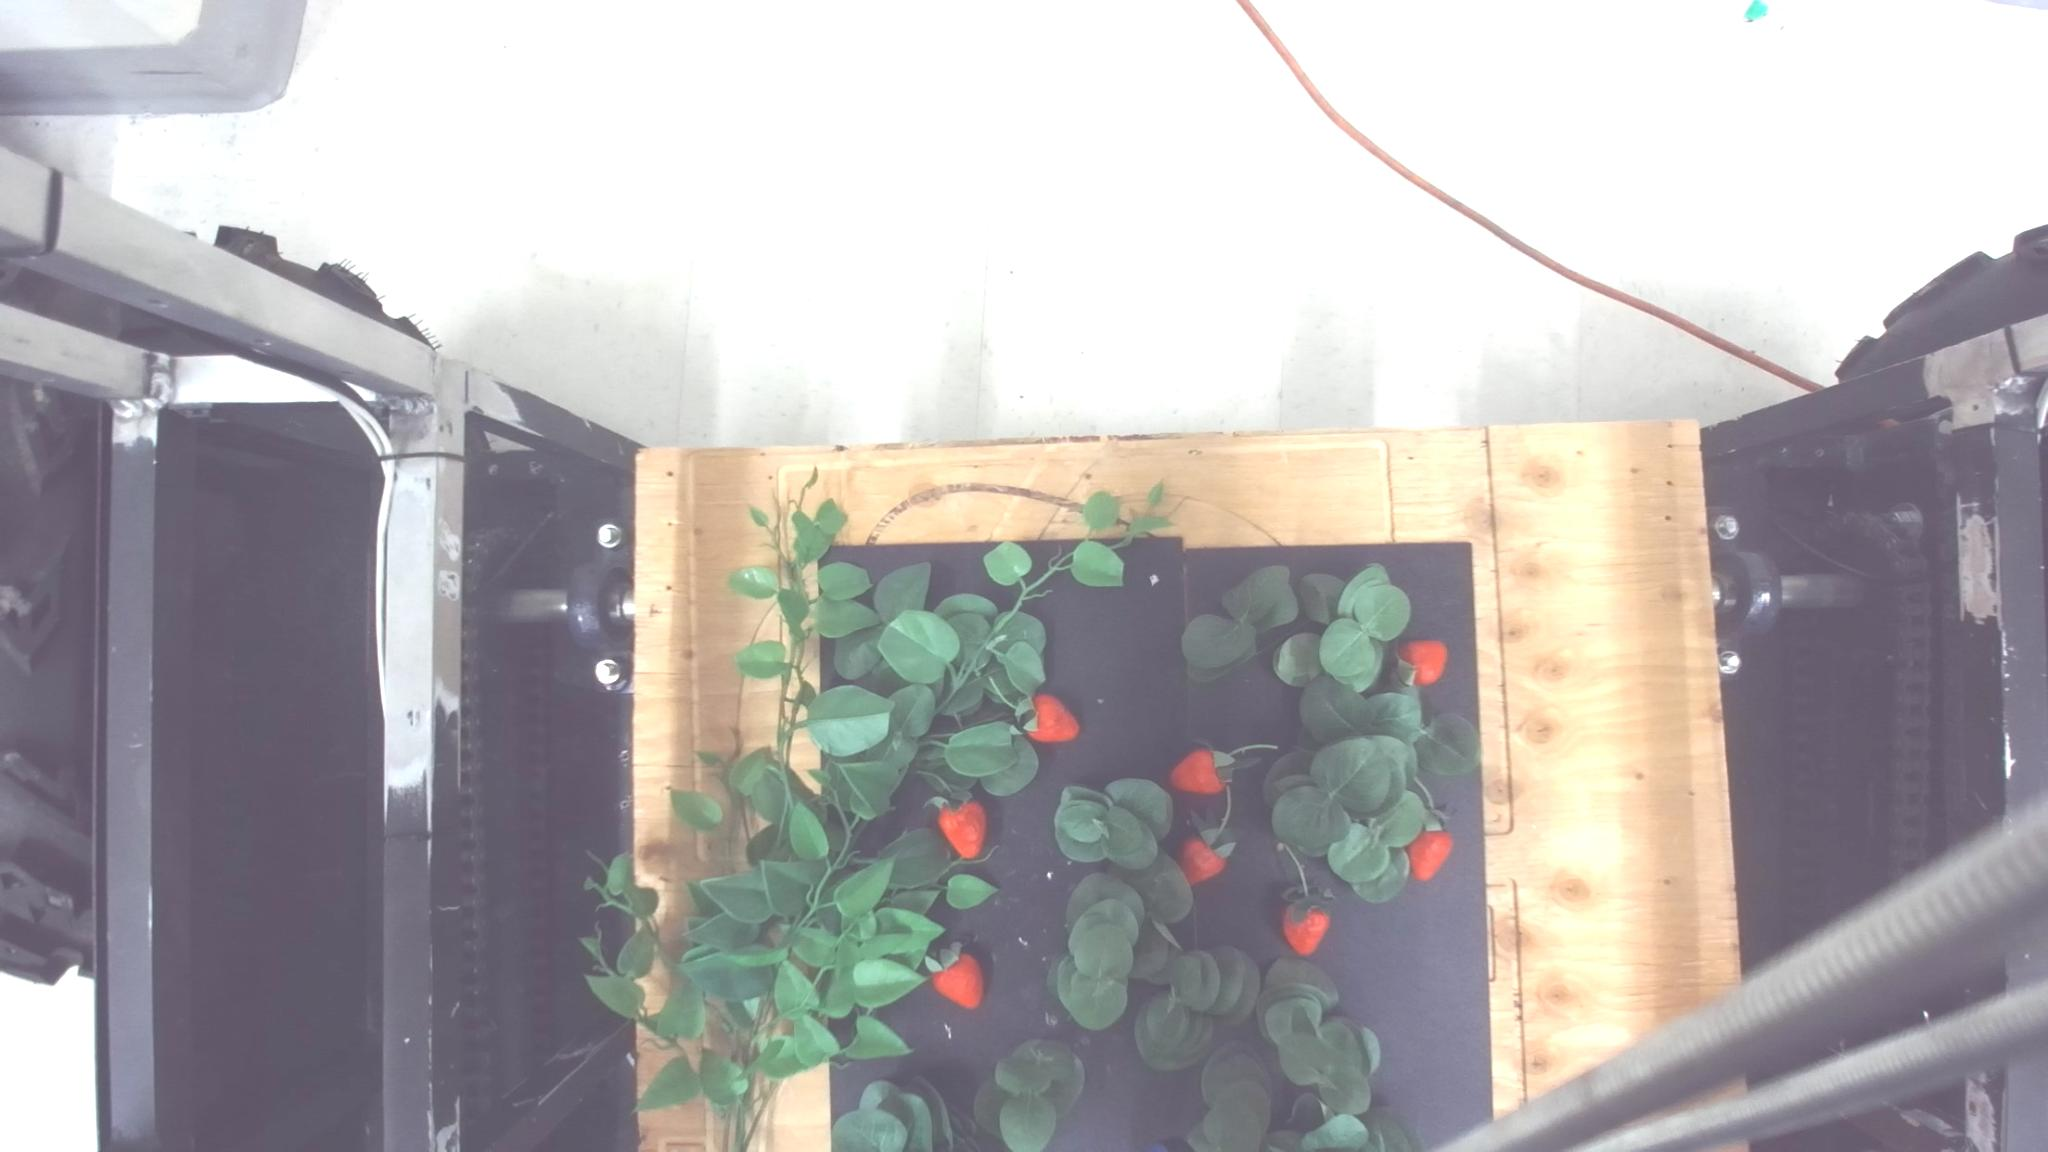strawberry: (928, 942, 985, 1010), (1175, 827, 1235, 885), (1280, 896, 1332, 956), (935, 798, 986, 859), (1021, 692, 1079, 744), (1167, 747, 1227, 798), (1405, 828, 1453, 881), (1397, 639, 1447, 686)
